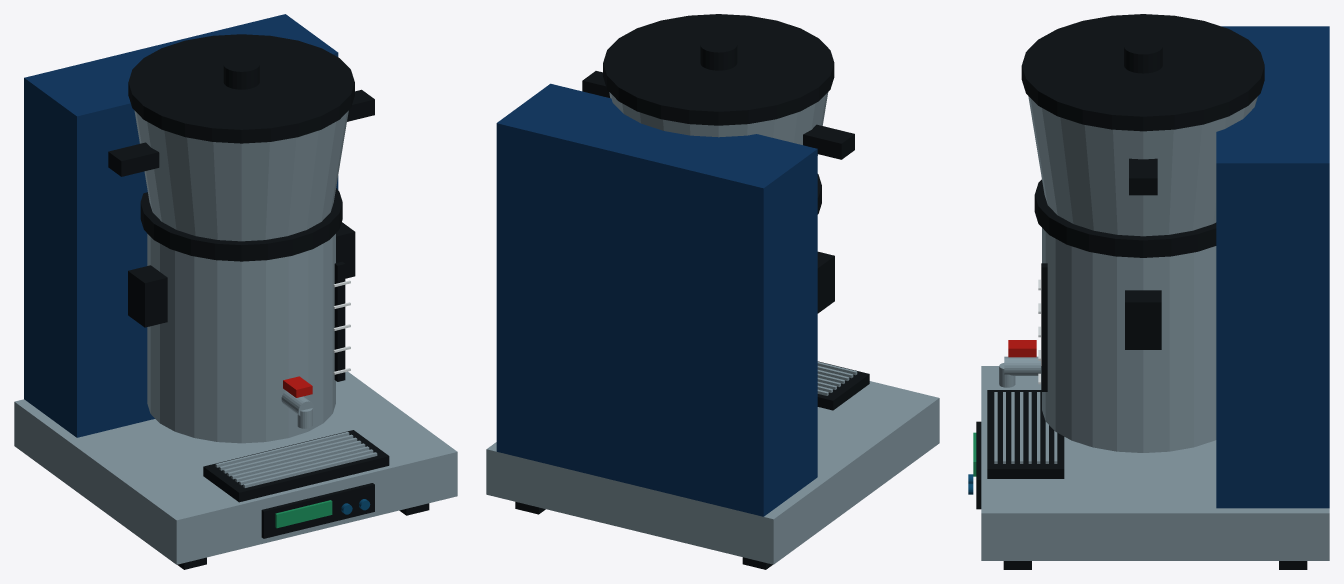
File: tea_brewer.dae
3 views of the same model, side by side, from view 1: azimuth 30°, elevation 25°; view 2: azimuth 150°, elevation 25°; view 3: azimuth 270°, elevation 25° (orthographic). The views are drawn at different scales.
Visible parts, largest first — view 1: heating_column, base, tea_vessel, brew_lid, brew_basket, vessel_lid, drip_tray_tray, vessel_handle (×2), control_panel, basket_handle (×2), sight_gauge, lid_knob (+9 smaller); view 2: heating_column, base, brew_lid, brew_basket, basket_handle, lid_knob, vessel_handle, drip_tray_tray; view 3: heating_column, base, tea_vessel, brew_lid, brew_basket, drip_tray_tray, vessel_lid, vessel_handle, lid_knob, basket_handle, sight_gauge, tea_tap_outlet (+2 smaller).
Part boxes in pixels (<box>): heating_column: <box>24,14,338,437</box>; base: <box>14,371,457,564</box>; tea_vessel: <box>147,234,335,443</box>; brew_lid: <box>128,34,354,143</box>; brew_basket: <box>134,110,348,241</box>; vessel_lid: <box>140,188,342,261</box>; drip_tray_tray: <box>203,430,389,502</box>; vessel_handle (×2): <box>128,222,355,327</box>; control_panel: <box>261,483,374,538</box>; basket_handle (×2): <box>108,89,374,176</box>; sight_gauge: <box>334,261,345,381</box>; lid_knob: <box>223,56,259,89</box>; heating_column: <box>496,83,817,516</box>; base: <box>486,381,939,564</box>; brew_lid: <box>603,14,834,125</box>; brew_basket: <box>609,92,828,155</box>; basket_handle: <box>803,124,854,159</box>; lid_knob: <box>700,37,737,70</box>; vessel_handle: <box>817,251,834,313</box>; drip_tray_tray: <box>817,361,869,410</box>; heating_column: <box>1216,26,1329,508</box>; base: <box>981,366,1329,560</box>; tea_vessel: <box>1042,228,1216,452</box>; brew_lid: <box>1021,14,1264,131</box>; brew_basket: <box>1028,96,1257,236</box>; drip_tray_tray: <box>987,390,1064,478</box>; vessel_lid: <box>1034,179,1216,257</box>; vessel_handle: <box>1125,290,1161,349</box>; lid_knob: <box>1124,38,1162,73</box>; basket_handle: <box>1129,158,1157,195</box>; sight_gauge: <box>1041,263,1047,391</box>; tea_tap_outlet: <box>1004,356,1040,375</box>.
Size of the model in its own units: 430 by 446 by 626.
